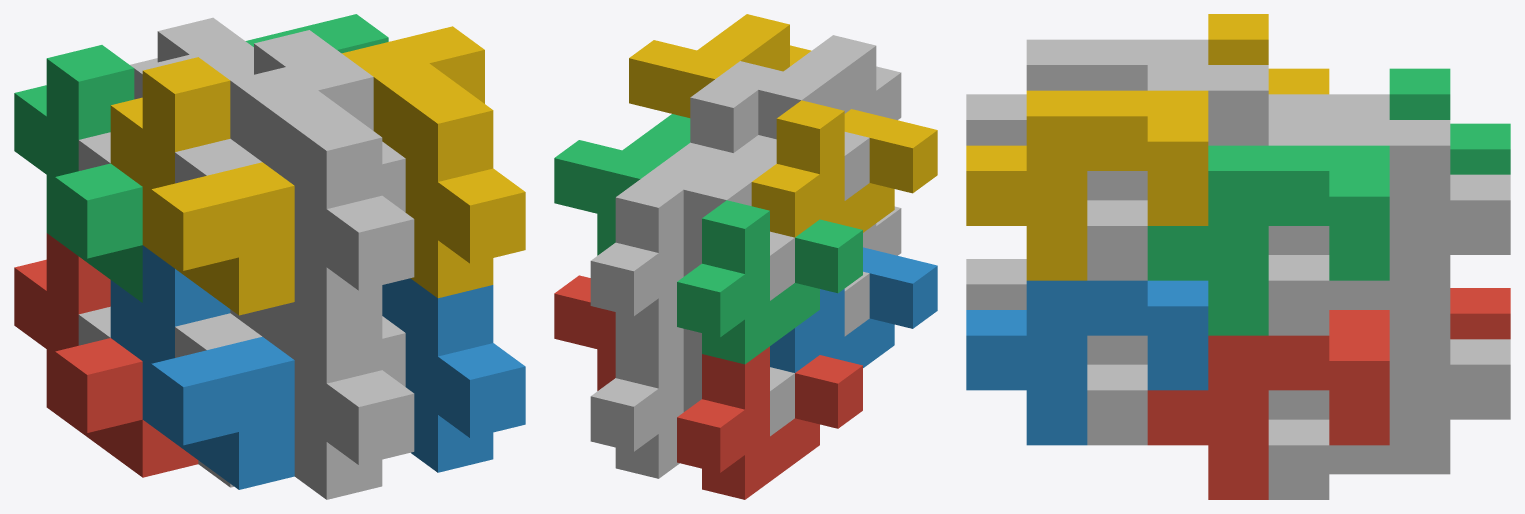
The model's file is tiling.obj.
The picture shows the model from 3 angles, left to right: view 1: azimuth 30°, elevation 25°; view 2: azimuth 150°, elevation 25°; view 3: azimuth 270°, elevation 25°; orthographic projection. The views are drawn at different scales.
Visible parts, largest first — view 1: copy_2_domain_4, copy_1_domain_4, copy_2_domain_8, copy_1_domain_2, copy_2_domain_2, copy_1_domain_3, copy_2_domain_6, copy_1_domain_1, copy_1_domain_8, copy_2_domain_3, copy_1_domain_7, copy_2_domain_7 (+2 smaller); view 2: copy_1_domain_3, copy_1_domain_1, copy_1_domain_4, copy_1_domain_7, copy_2_domain_4, copy_1_domain_5, copy_1_domain_2, copy_2_domain_8, copy_2_domain_7, copy_2_domain_3, copy_1_domain_8, copy_2_domain_5 (+2 smaller); view 3: copy_2_domain_8, copy_2_domain_7, copy_2_domain_6, copy_1_domain_7, copy_2_domain_5, copy_1_domain_5, copy_1_domain_8, copy_2_domain_4, copy_1_domain_6, copy_1_domain_3, copy_1_domain_4, copy_2_domain_3 (+2 smaller).
Part boxes in pixels (x1=…): copy_2_domain_4: x1=175, y1=53, x2=414, y2=325; copy_1_domain_4: x1=110, y1=57, x2=294, y2=315; copy_2_domain_8: x1=342, y1=26, x2=525, y2=298; copy_1_domain_2: x1=110, y1=245, x2=294, y2=489; copy_2_domain_2: x1=175, y1=302, x2=414, y2=499; copy_1_domain_3: x1=14, y1=45, x2=142, y2=302; copy_2_domain_6: x1=382, y1=278, x2=525, y2=472; copy_1_domain_1: x1=14, y1=233, x2=198, y2=477; copy_1_domain_8: x1=226, y1=30, x2=405, y2=212; copy_2_domain_3: x1=78, y1=41, x2=253, y2=170; copy_1_domain_7: x1=130, y1=17, x2=244, y2=68; copy_2_domain_7: x1=245, y1=14, x2=388, y2=53; copy_1_domain_3: x1=677, y1=200, x2=862, y2=364; copy_1_domain_1: x1=677, y1=346, x2=862, y2=499; copy_1_domain_4: x1=751, y1=100, x2=937, y2=237; copy_1_domain_7: x1=590, y1=179, x2=683, y2=343; copy_2_domain_4: x1=715, y1=35, x2=901, y2=200; copy_1_domain_5: x1=590, y1=328, x2=683, y2=478; copy_1_domain_2: x1=770, y1=247, x2=937, y2=372; copy_2_domain_8: x1=629, y1=14, x2=811, y2=117; copy_2_domain_7: x1=554, y1=114, x2=690, y2=255; copy_2_domain_3: x1=641, y1=135, x2=794, y2=300; copy_1_domain_8: x1=666, y1=79, x2=758, y2=171; copy_2_domain_5: x1=554, y1=275, x2=615, y2=390; copy_2_domain_8: x1=966, y1=90, x2=1208, y2=280; copy_2_domain_7: x1=1147, y1=145, x2=1389, y2=335; copy_2_domain_6: x1=966, y1=280, x2=1208, y2=445; copy_1_domain_7: x1=1268, y1=120, x2=1510, y2=335; copy_2_domain_5: x1=1147, y1=310, x2=1389, y2=499; copy_1_domain_5: x1=1268, y1=310, x2=1510, y2=499; copy_1_domain_8: x1=1087, y1=65, x2=1329, y2=280; copy_2_domain_4: x1=966, y1=39, x2=1208, y2=145; copy_1_domain_6: x1=1087, y1=335, x2=1147, y2=445; copy_1_domain_3: x1=1389, y1=68, x2=1510, y2=174; copy_1_domain_4: x1=1208, y1=14, x2=1329, y2=94; copy_2_domain_3: x1=1268, y1=94, x2=1389, y2=145.
Size of the model in its own units: 6 by 7 by 9.
